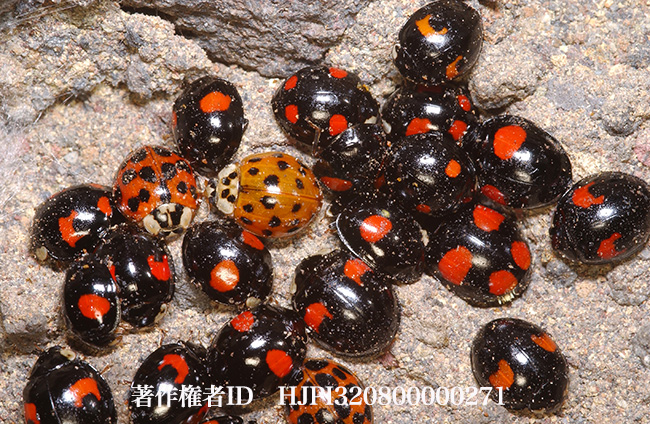red: (217, 151, 323, 241)
two_spots: (293, 249, 402, 357), (548, 169, 650, 266), (466, 116, 573, 206), (110, 144, 201, 239), (392, 0, 483, 88), (183, 221, 274, 308), (212, 305, 303, 386), (169, 76, 245, 171), (381, 135, 472, 214), (63, 257, 120, 347)
two_spots_mutant: (428, 202, 533, 308), (271, 65, 377, 149), (32, 183, 112, 258)
